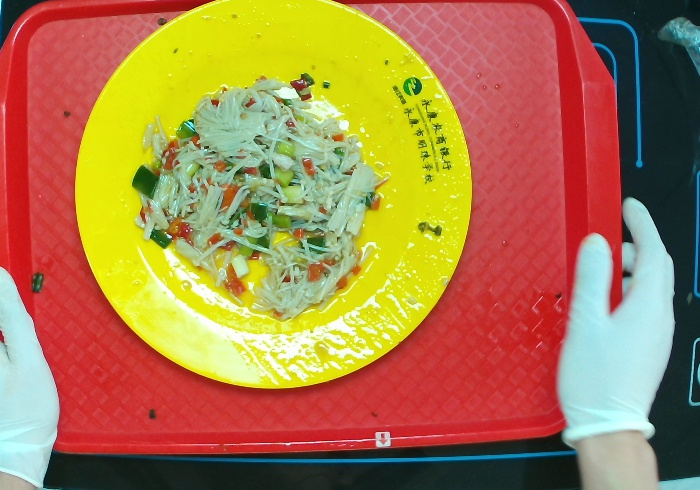YKMZ-Huang_Se_Mian_Pan: (66, 1, 474, 403)
